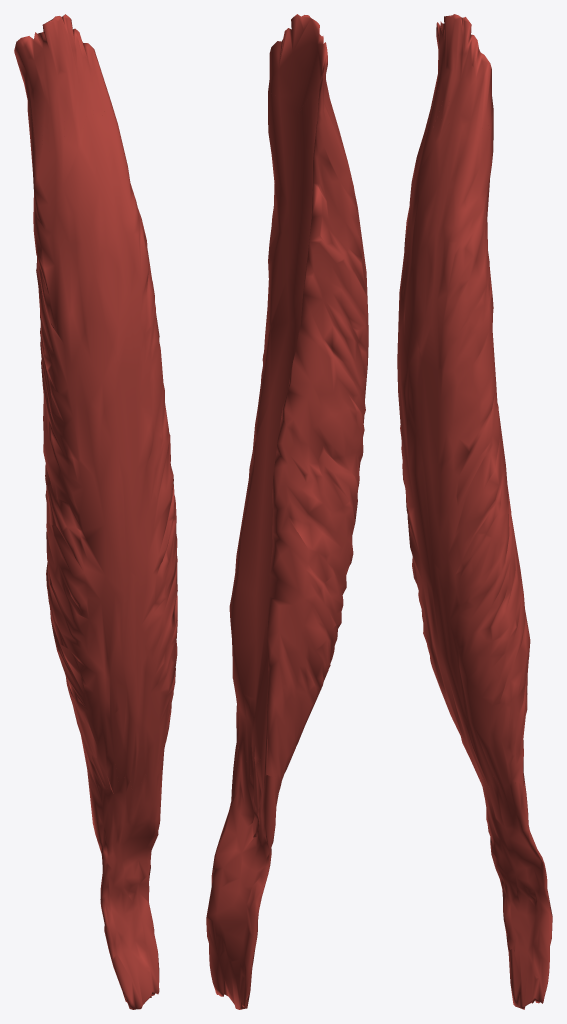
File: musculos-vastus-intermedius-muscle-r.glb
3 renders of one model, left to right at view 1: azimuth 30°, elevation 25°; view 2: azimuth 150°, elevation 25°; view 3: azimuth 330°, elevation 25°, orthographic. The views are drawn at different scales.
Parts seen in each view (by area): view 1: Vastus intermedius muscle.r; view 2: Vastus intermedius muscle.r; view 3: Vastus intermedius muscle.r.
Boxes of the visible parts, <box> form: Vastus intermedius muscle.r: <box>14,14,177,1009</box>; Vastus intermedius muscle.r: <box>206,14,368,1009</box>; Vastus intermedius muscle.r: <box>397,14,552,1009</box>.
Bounding box in the file's own units: 0.0566 × 0.4084 × 0.0478.
